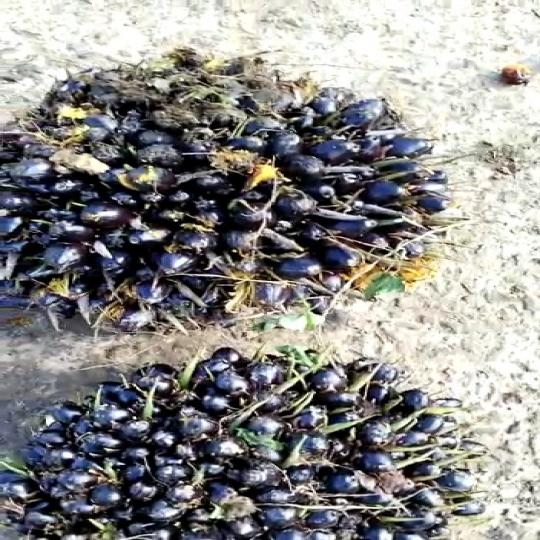mentah: (0, 51, 450, 345), (0, 345, 528, 539)
